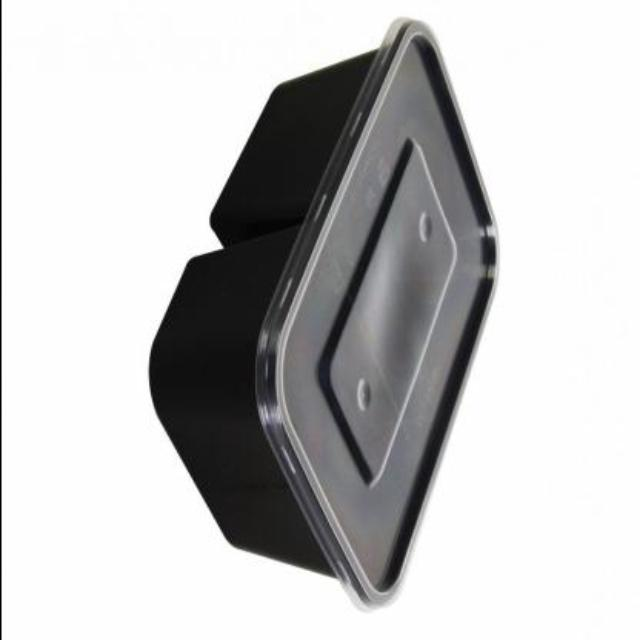plastic_box: (144, 21, 504, 608)
